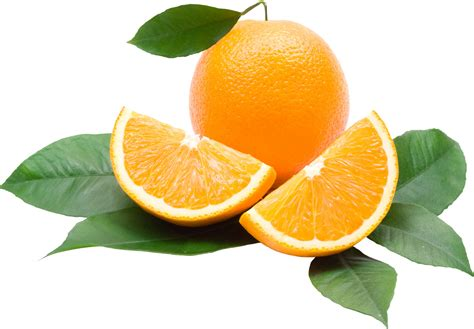orange: (186, 14, 353, 167)
